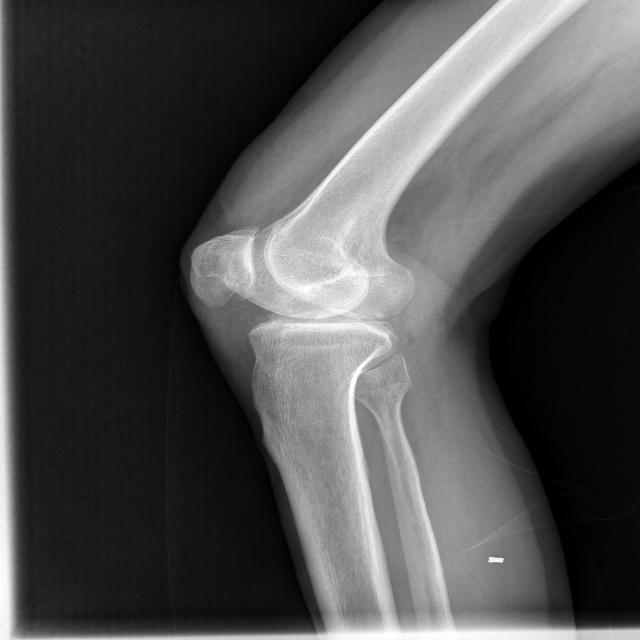Knee: (184, 210, 418, 390)
